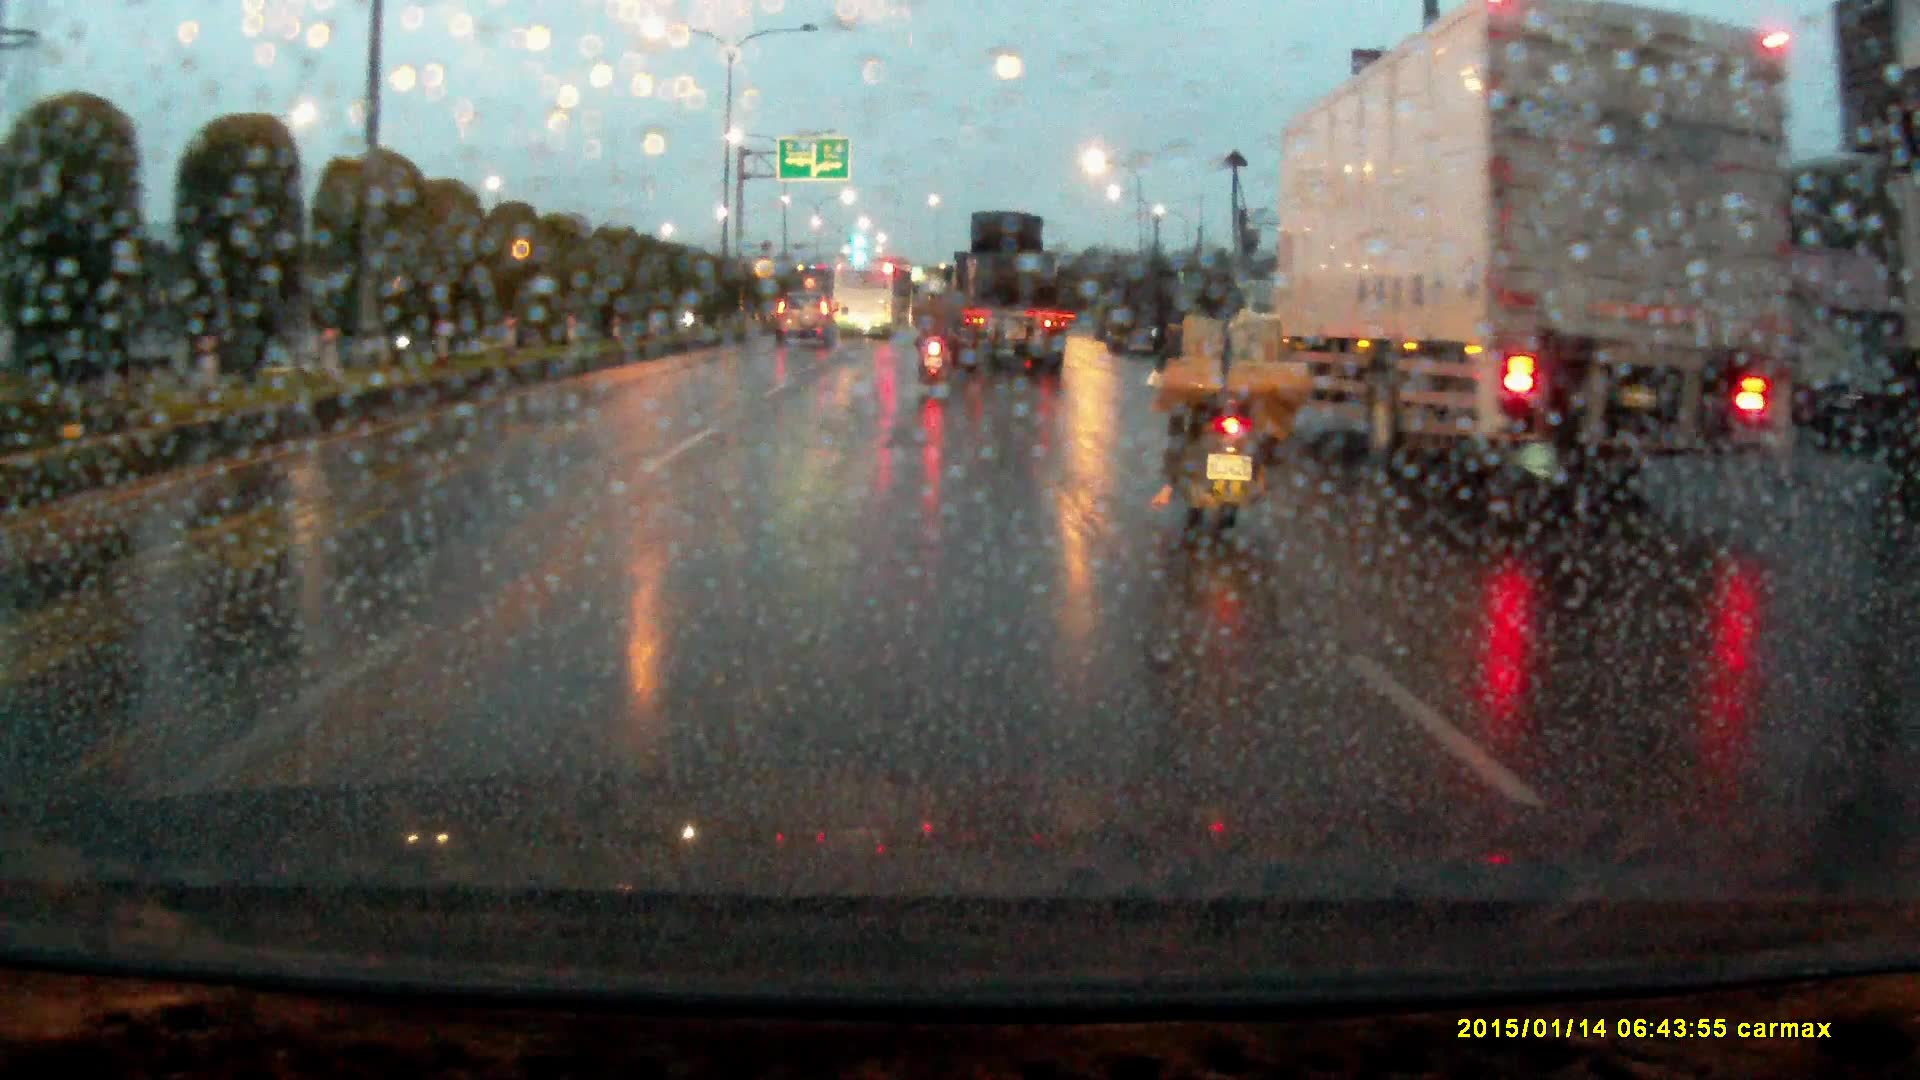rider: (1152, 253, 1320, 557), (913, 288, 955, 389)
vehicle: (1268, 9, 1813, 479), (934, 205, 1066, 371), (832, 264, 896, 339), (775, 282, 838, 344)
